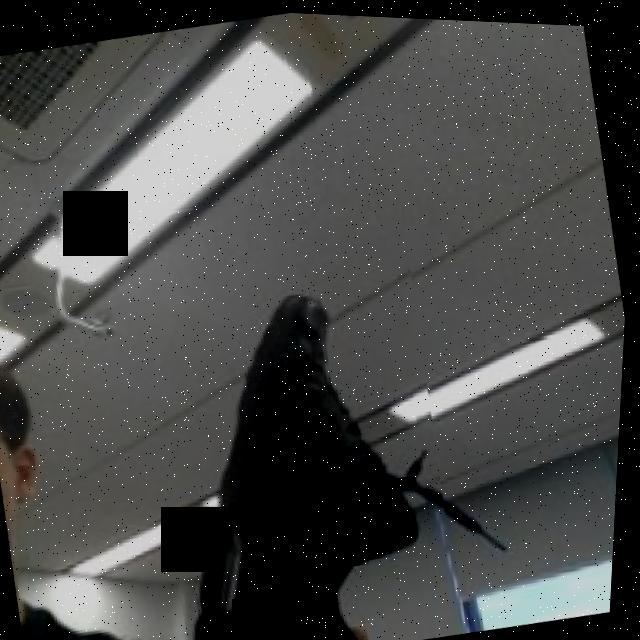shoe: (77, 215, 485, 640)
